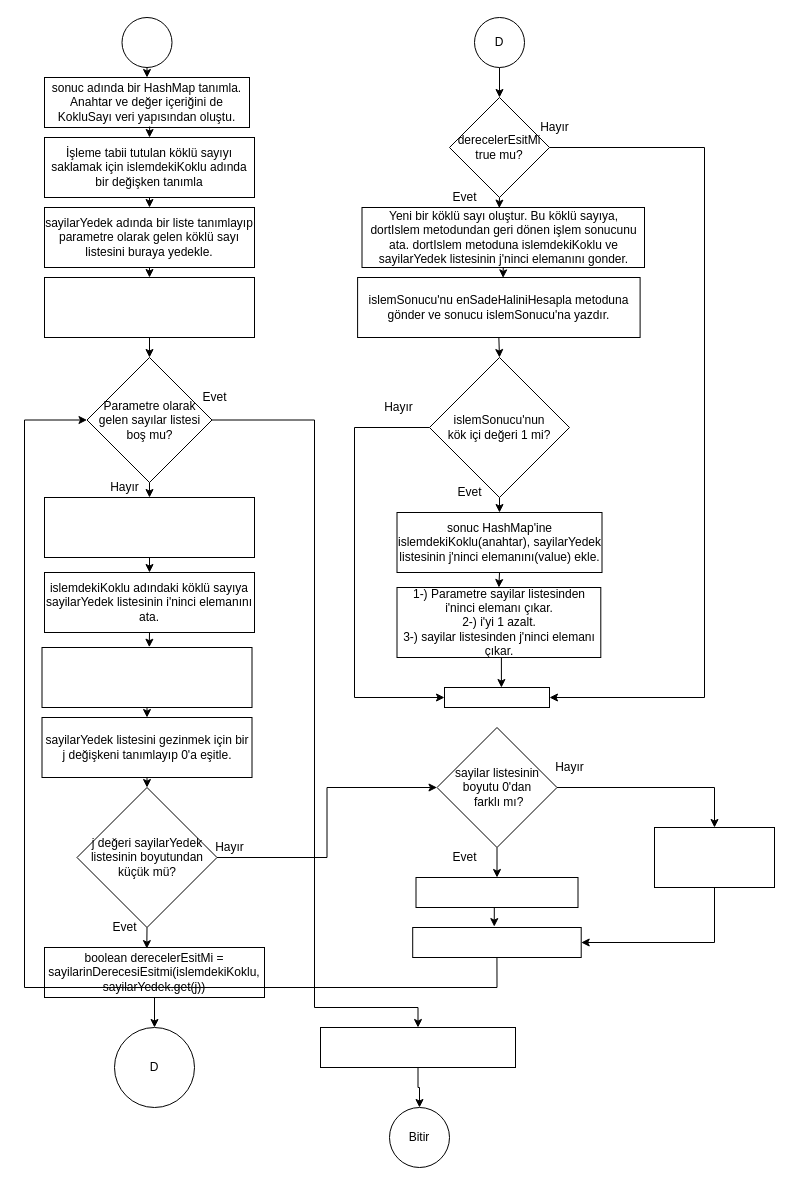
This 792x1185 diagram has some shape labels left out. The centre of each missing label's shape, as x and y in pixels:
Başla: point 146,42
continue: point 714,857
Döngü için i değeri tanımlayıp 0'a eşitle.: point 149,307
i = (i + 1) % sayilar.size(): point 496,892
j++: point 497,697
sayilar listesini sayilarYedek adlı listeye kopyala: point 149,527
sayilarYedek listesini temizle: point 496,942
sayilarYedek listesinin i'ninci elemanını sil.: point 146,677
sonuc HashMap'ini gönder(return): point 418,1047
